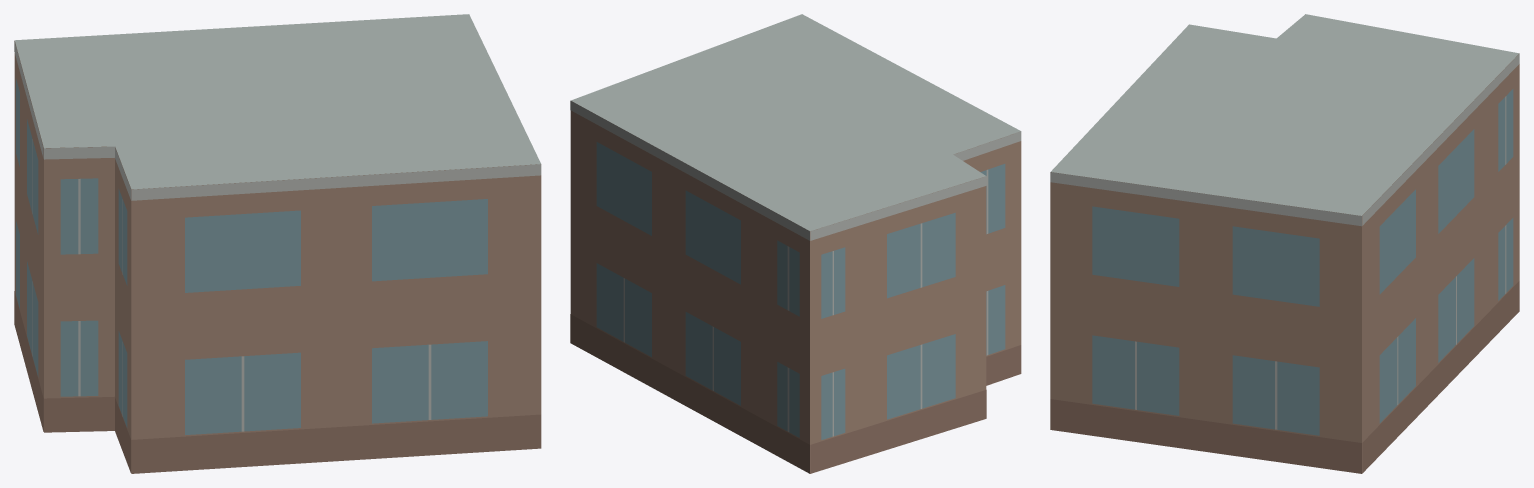
Rendered from survey-upis-32644809.glb.
The picture shows the model from 3 angles, left to right: view 1: azimuth 30°, elevation 25°; view 2: azimuth 150°, elevation 25°; view 3: azimuth 270°, elevation 25°; orthographic projection. The views are drawn at different scales.
Parts seen in each view (by area): view 1: survey-upis-32644809.tmp; view 2: survey-upis-32644809.tmp; view 3: survey-upis-32644809.tmp.
Boxes of the visible parts, left/top/right/bottom form: survey-upis-32644809.tmp: left=14, top=14, right=541, bottom=473; survey-upis-32644809.tmp: left=570, top=14, right=1021, bottom=473; survey-upis-32644809.tmp: left=1050, top=14, right=1519, bottom=473.
Bounding box in the file's own units: 10.26 × 6.1 × 10.07.
